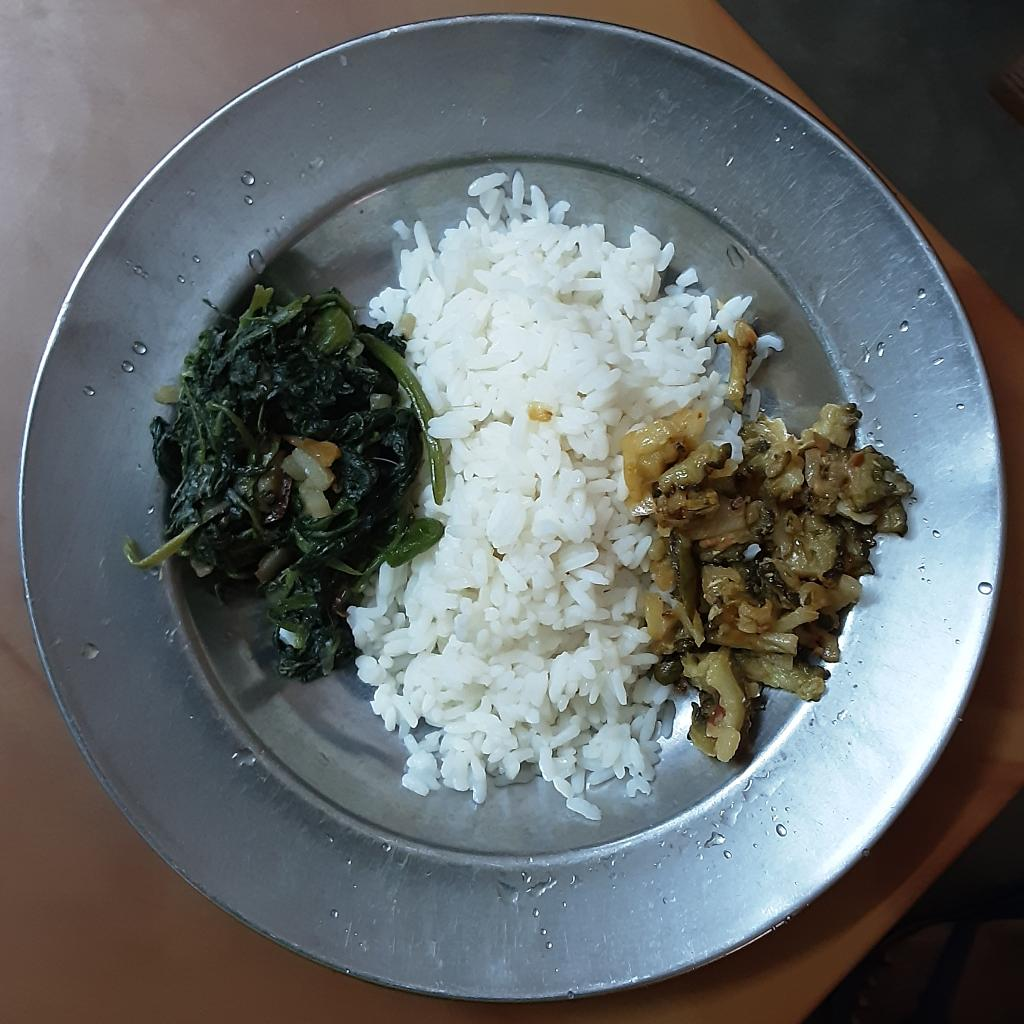korola-vaji: (344, 165, 752, 825), (642, 322, 912, 765)
potato: (618, 403, 709, 503)
shak: (121, 283, 453, 687)
